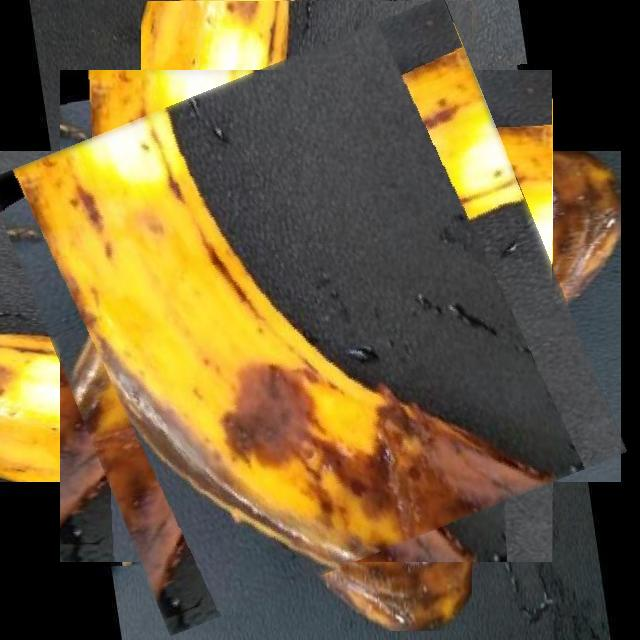Podre: (23, 33, 590, 599)
